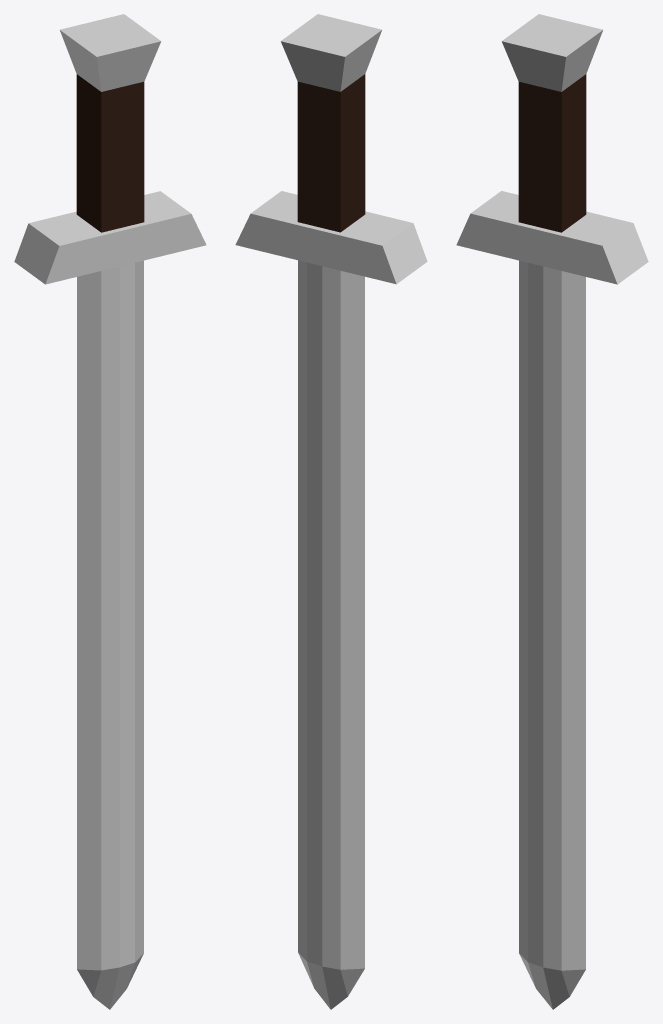
Rendered from Sword.fbx.
3 renders of one model, left to right at view 1: azimuth 30°, elevation 25°; view 2: azimuth 150°, elevation 25°; view 3: azimuth 330°, elevation 25°, orthographic.
Visible parts, largest first — view 1: Cube; view 2: Cube; view 3: Cube.
Boxes of the visible parts, x1,y1,x2,y2 form: Cube: (14,14,206,1009); Cube: (235,14,427,1009); Cube: (456,14,648,1009).
Bounding box in the file's own units: 60 × 346 × 24.
